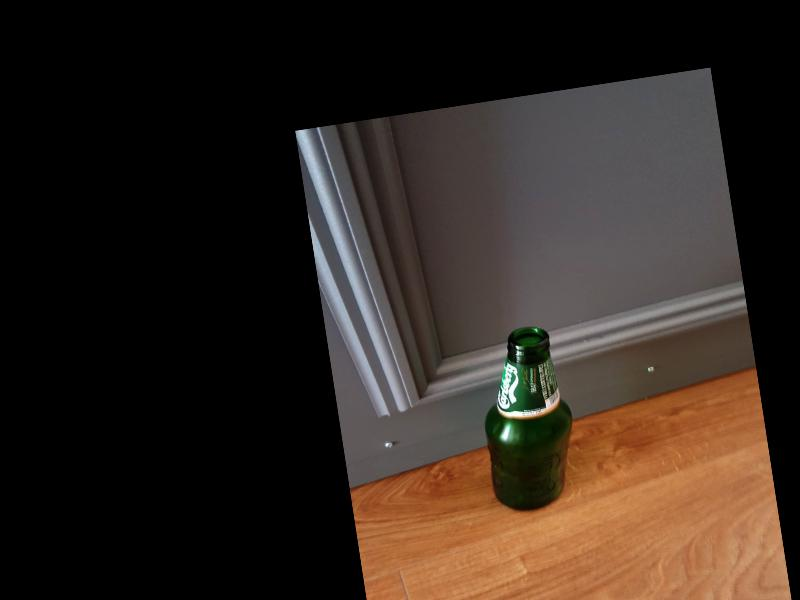Beer: (469, 323, 585, 515)
